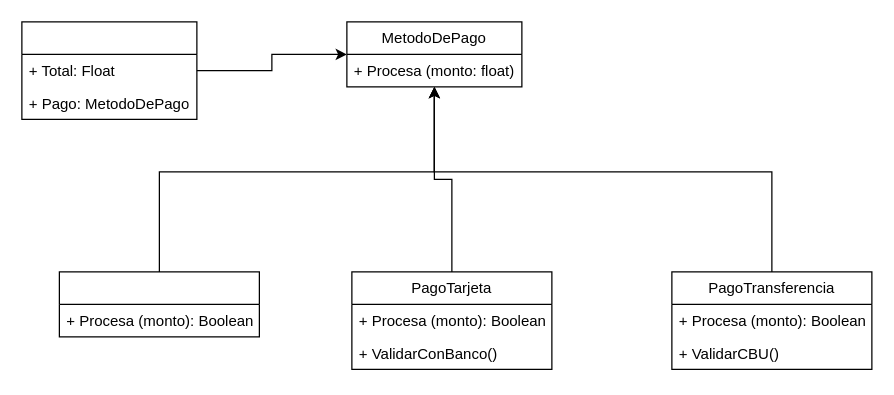
This 894x395 diagram has some shape labels left out. The box of each missing label's shape, as (x1, y1, x2, y2) in pixels:
PagoEfectivo: (58, 271, 259, 337)
Venta: (21, 21, 197, 119)
